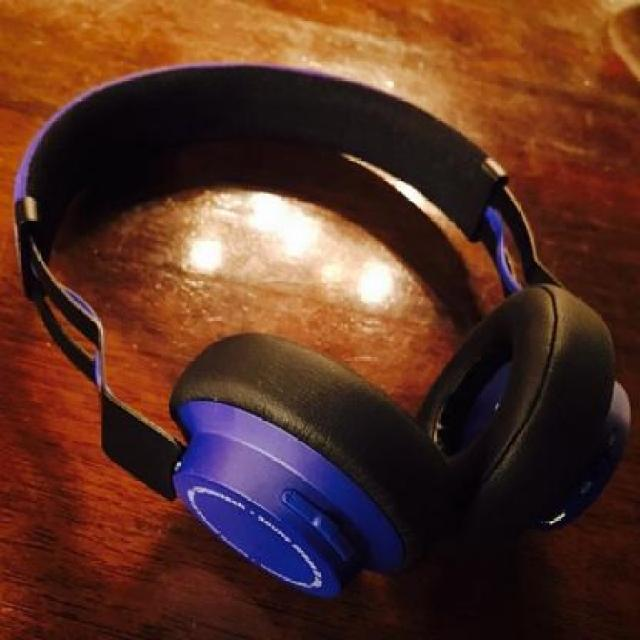earphone: (15, 10, 618, 577)
